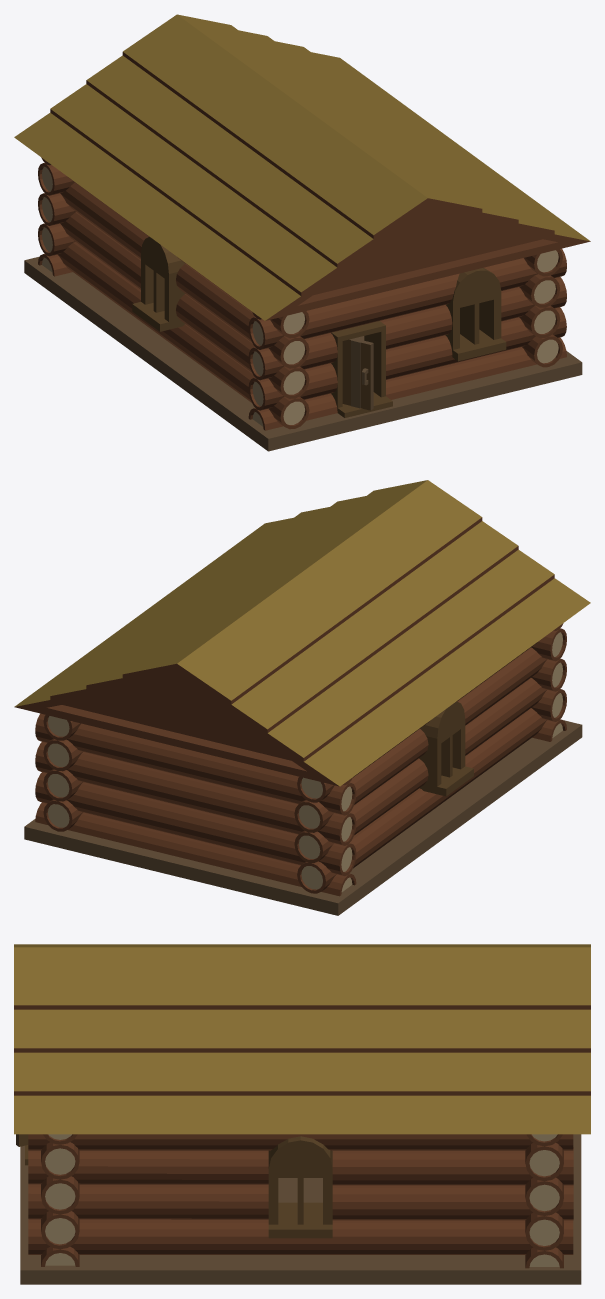
The model's file is forester_house2.glb.
The picture shows the model from 3 angles, top to bottom: view 1: azimuth 30°, elevation 25°; view 2: azimuth 150°, elevation 25°; view 3: azimuth 270°, elevation 25°; orthographic projection. The views are drawn at different scales.
Parts seen in each view (by area): view 1: roof, floor, log.007, log.029, window, window.002, log_half.004, log.031, log.027, log.014, door_frame, log.032 (+15 smaller); view 2: roof, floor, log.024, log.025, log.023, log.029, log_half.002, window.002, log.032, log.028, log.027, log.031 (+8 smaller); view 3: roof, floor, log.022, log.003, log.020, log.019, log.030, log.021, window.001, log.024, log.023, log.025 (+5 smaller).
Boxes of the visible parts, <box> form: roof: <box>14,14,590,320</box>; floor: <box>24,256,582,451</box>; log.007: <box>248,248,566,349</box>; log.029: <box>57,242,309,429</box>; window: <box>445,267,506,361</box>; window.002: <box>132,236,185,331</box>; log_half.004: <box>386,337,566,399</box>; log.031: <box>176,294,309,398</box>; log.027: <box>176,263,309,368</box>; log.014: <box>386,307,566,379</box>; door_frame: <box>331,321,392,417</box>; log.032: <box>60,212,140,289</box>; roof: <box>14,480,590,786</box>; floor: <box>24,720,582,915</box>; log.024: <box>35,742,356,845</box>; log.025: <box>35,772,356,876</box>; log.023: <box>35,713,356,815</box>; log.029: <box>297,708,546,893</box>; log_half.002: <box>35,802,356,896</box>; window.002: <box>419,701,473,796</box>; log.032: <box>294,758,428,863</box>; log.028: <box>294,729,428,832</box>; log.027: <box>457,647,546,725</box>; log.031: <box>465,678,546,755</box>; roof: <box>14,944,590,1134</box>; floor: <box>20,1134,581,1284</box>; log.022: <box>28,1219,573,1254</box>; log.003: <box>28,1134,573,1150</box>; log.020: <box>332,1147,573,1185</box>; log.019: <box>332,1185,573,1220</box>; log.030: <box>28,1184,268,1219</box>; log.021: <box>28,1150,268,1184</box>; window.001: <box>268,1136,332,1238</box>; log.024: <box>525,1177,563,1215</box>; log.023: <box>525,1143,563,1181</box>; log.025: <box>525,1212,563,1250</box>.
Size of the model in its own units: 13.5 by 8.59 by 18.
